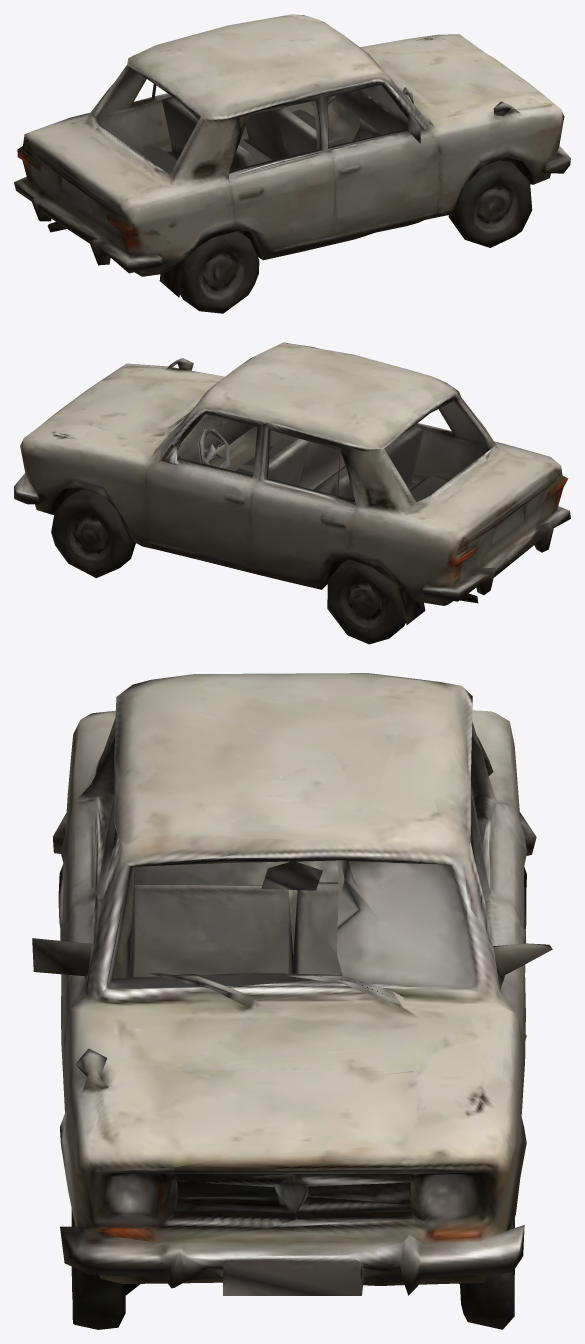
Rendered from e_vaz2107.glb.
3 renders of one model, top to bottom at view 1: azimuth 30°, elevation 25°; view 2: azimuth 150°, elevation 25°; view 3: azimuth 270°, elevation 25°, orthographic. The views are drawn at different scales.
Visible parts, largest first — view 1: tripo_node_0adf4dd5-0404-4148-a360-65b4f6a9793e; view 2: tripo_node_0adf4dd5-0404-4148-a360-65b4f6a9793e; view 3: tripo_node_0adf4dd5-0404-4148-a360-65b4f6a9793e.
Boxes of the visible parts, x1,y1,x2,y2 form: tripo_node_0adf4dd5-0404-4148-a360-65b4f6a9793e: [14, 14, 570, 313]; tripo_node_0adf4dd5-0404-4148-a360-65b4f6a9793e: [14, 342, 570, 644]; tripo_node_0adf4dd5-0404-4148-a360-65b4f6a9793e: [32, 673, 552, 1329].
Bounding box in the file's own units: 1 × 0.4086 × 0.4838.
1 material, 1 textured.
